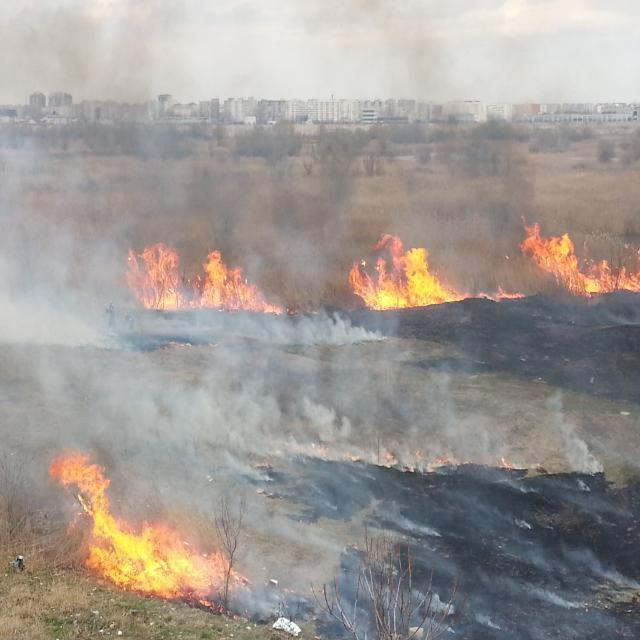Fire: (62, 452, 246, 602), (124, 238, 284, 318), (519, 214, 640, 296), (345, 232, 470, 310)
Smoke: (0, 0, 640, 246), (0, 311, 614, 491)
